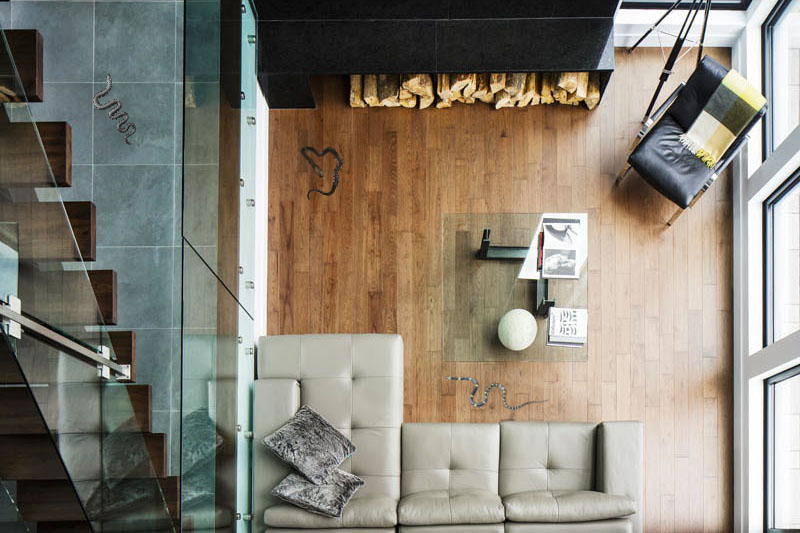snake: (443, 373, 550, 412), (93, 72, 138, 147), (297, 144, 344, 202)
